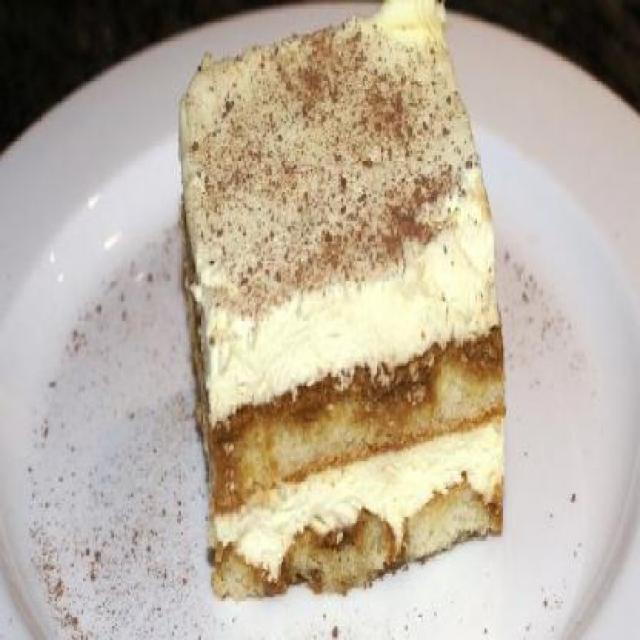Tiramisu: (170, 18, 516, 574)
